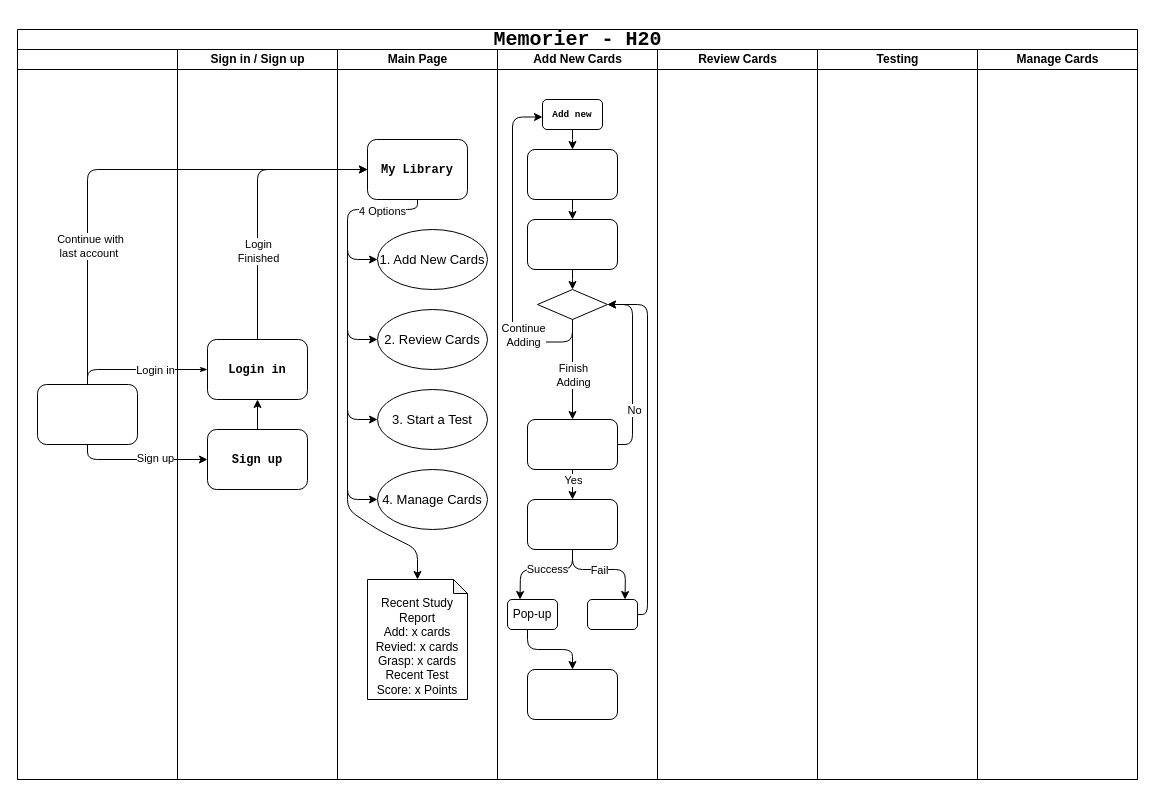
Image size: 1155x797. Some labels were removed from this diagram. Here are the shapes that lost their labels. From the top down, the box of each, then its label:
(526, 148, 618, 200): Choose type Add contain
(526, 218, 618, 270): Set Other Parameters
(536, 288, 608, 320): Continue?
(36, 384, 138, 444): Welcome Window
(16, 48, 178, 780): Welcome Page
(526, 418, 618, 470): Pop-up window to comfirm
(526, 498, 618, 550): Progress bar for submiting to MySQL
(586, 598, 638, 630): Show error message
(526, 668, 618, 720): Go Back to My Library
